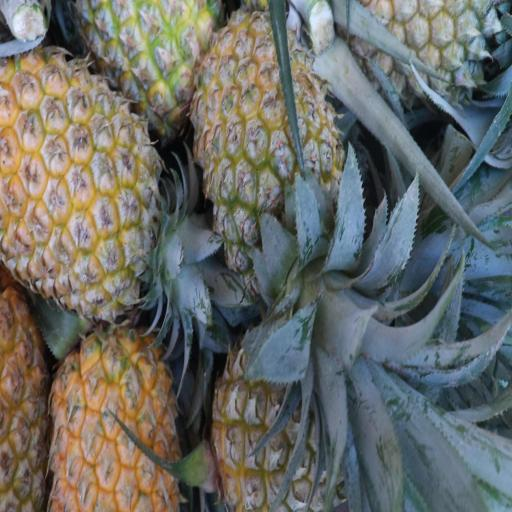------------------------------: (194, 16, 338, 253), (215, 313, 350, 512)
Pineapple - v8 v1: (0, 56, 158, 303), (52, 316, 181, 512), (80, 0, 218, 106)
